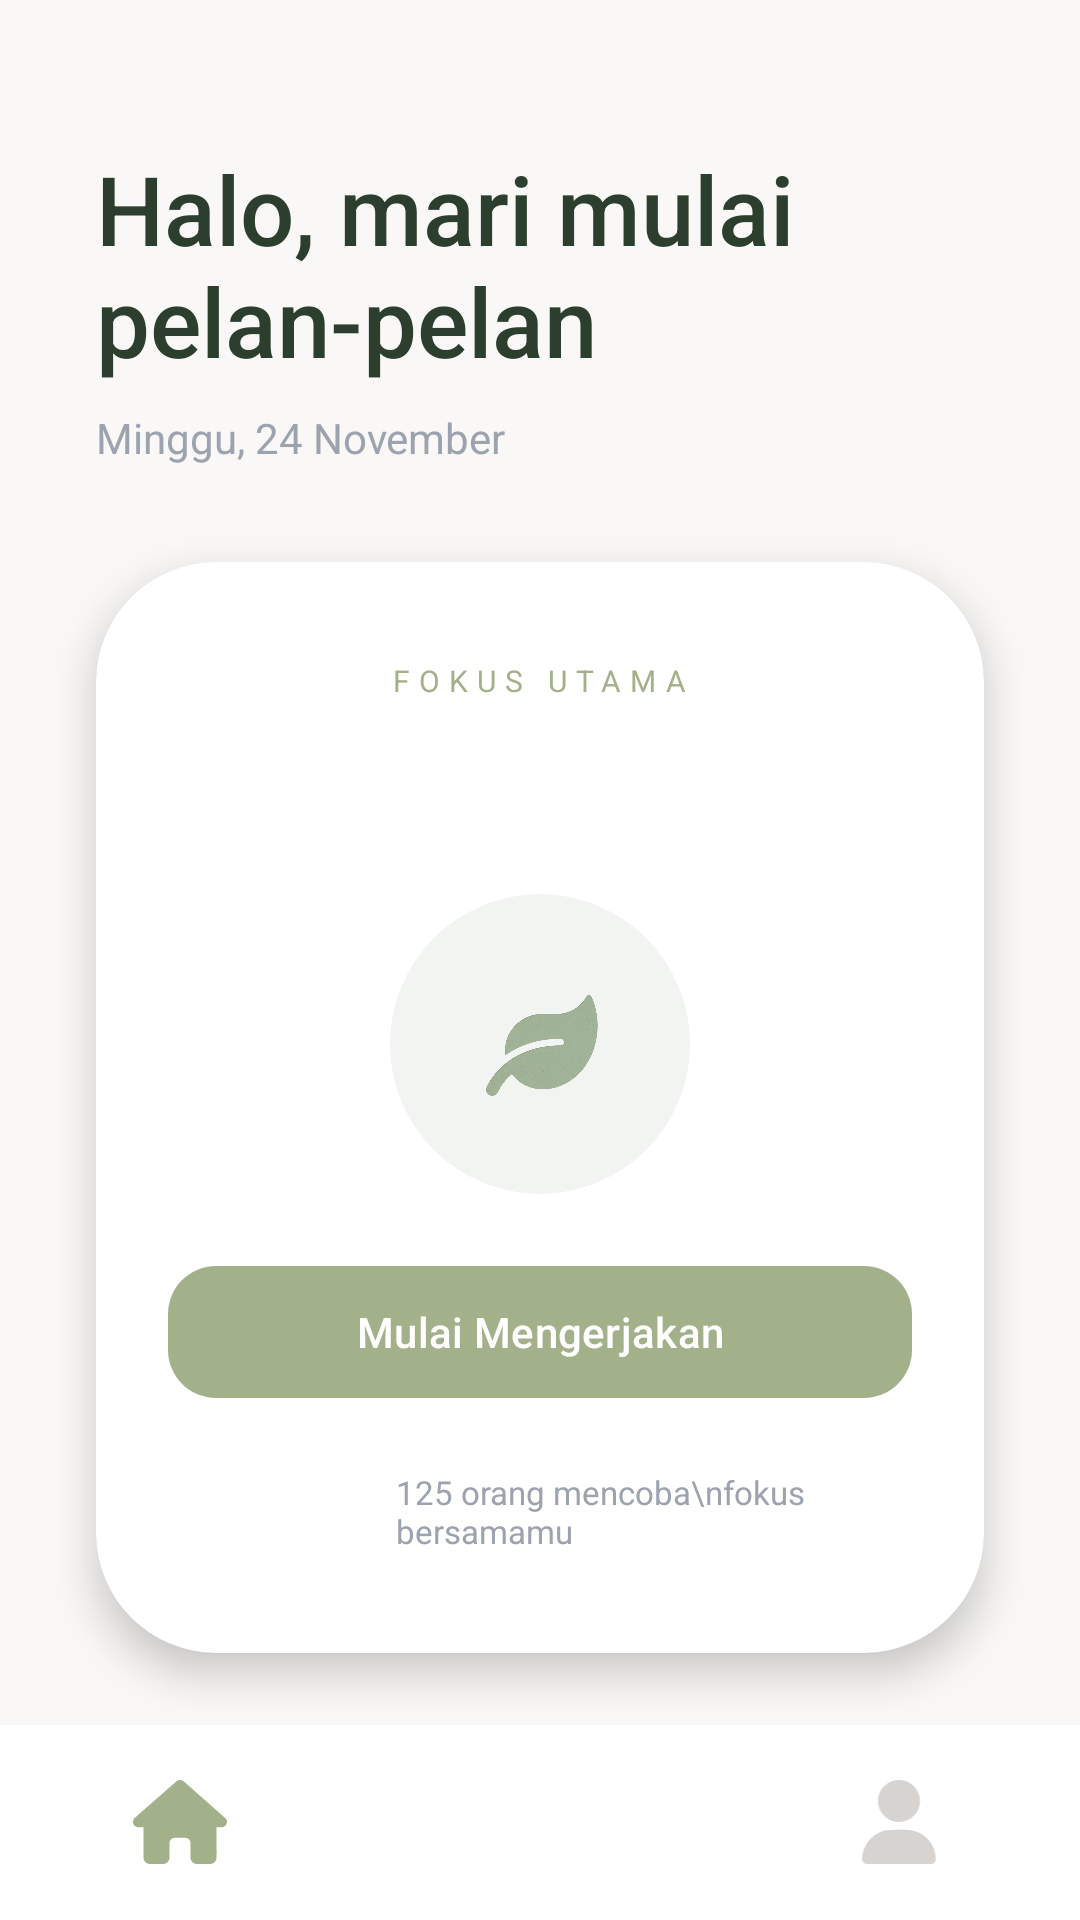

Named icons in this screenshot (1080px x 1920px) and their bounding boxes, (x1, y1, x2, y2):
home: (133, 1780, 227, 1864)
profile: (862, 1780, 936, 1864)
